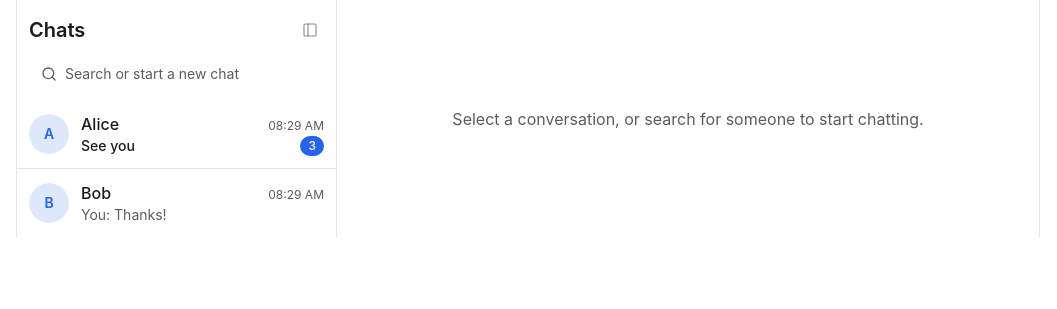
Scenario: ChatsPage › search › shows matching chats and new people, without duplicates
Expected: the list named "Conversations" is shown, x1=17 y1=100 x2=336 y2=237
Type "al" into the search field named "Search chats or people". click: (176, 74)
box: x1=29 y1=56 x2=324 y2=92
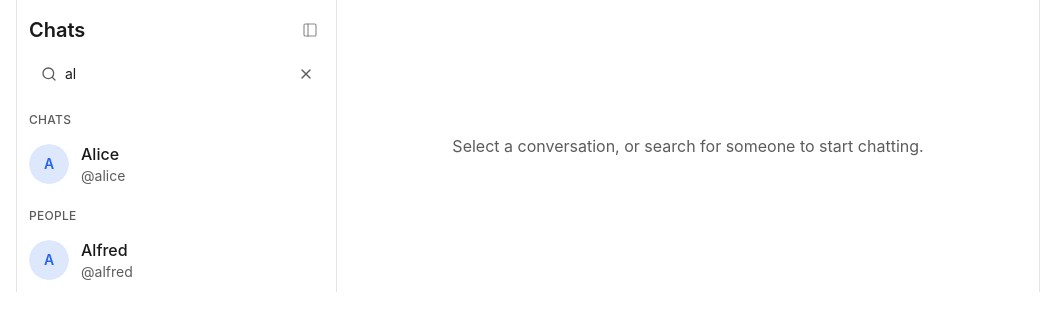
Expected: the button "A Alice @alice" is shown, x1=17 y1=132 x2=336 y2=196
Now the button "A Alfred @alfred" is shown, box x1=17 y1=228 x2=336 y2=292
Now the list "Conversations" is gone
